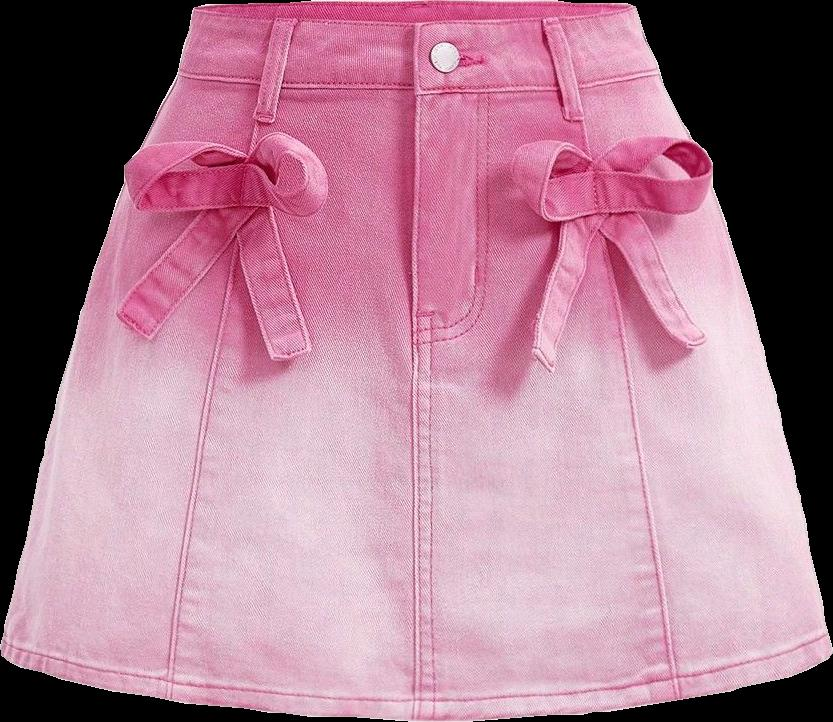Hemline: (0, 639, 832, 721)
Waistline: (171, 66, 665, 94), (188, 3, 636, 30)
